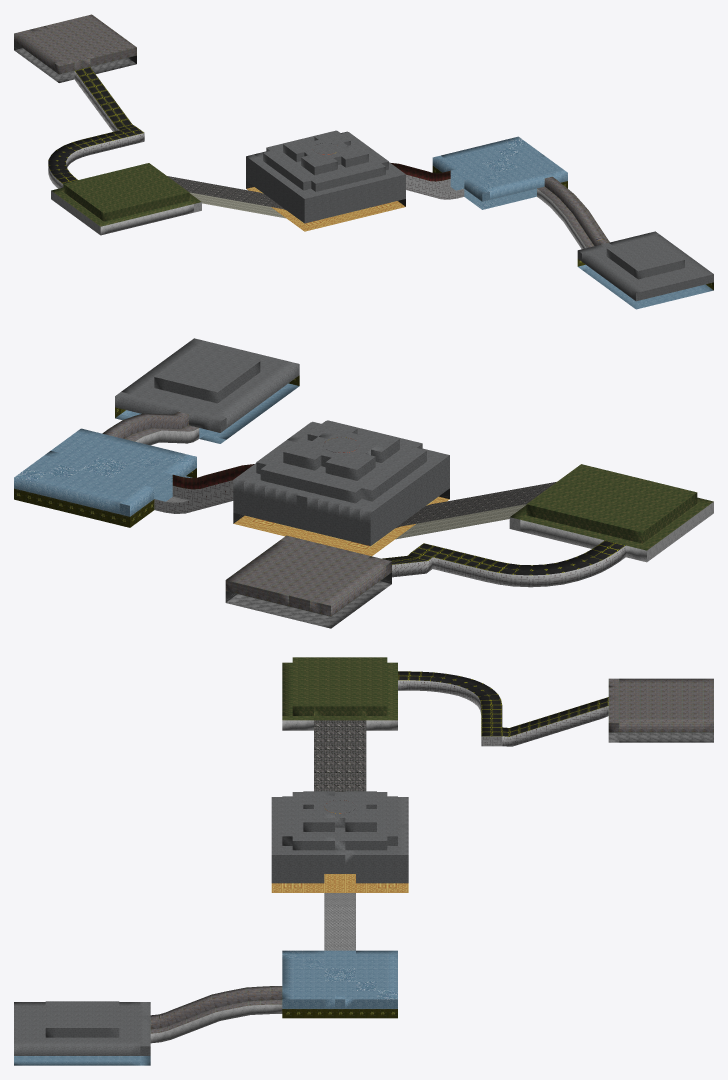
File: complex.obj
3 renders of one model, top to bottom at view 1: azimuth 30°, elevation 25°; view 2: azimuth 150°, elevation 25°; view 3: azimuth 270°, elevation 25°, orthographic. The views are drawn at different scales.
Parts seen in each view (by area): view 1: main, building4, building2, |0|building1, building3, tunnel3, tunnel4, building2_wall, tunnel2, main_floor, building4_floor, building3_floor (+6 smaller); view 2: main, building4, building2, |0|building1, building3, tunnel3_wall2, tunnel3, tunnel2, building2_wall, main_floor, building3_floor, building1_wall (+6 smaller); view 3: main, building4, building2, |0|building1, building3, tunnel2, tunnel3, tunnel4, tunnel3_wall1, tunnel1_floor, main_floor, tunnel4_wall (+4 smaller).
Boxes of the visible parts, left/top/right/bottom form: main: left=246, top=130, right=405, bottom=223; building4: left=577, top=231, right=713, bottom=301; building2: left=51, top=163, right=201, bottom=226; |0|building1: left=432, top=136, right=567, bottom=201; building3: left=14, top=14, right=136, bottom=74; tunnel3: left=48, top=67, right=144, bottom=183; tunnel4: left=537, top=176, right=609, bottom=247; building2_wall: left=51, top=191, right=201, bottom=235; tunnel2: left=167, top=176, right=285, bottom=209; main_floor: left=246, top=187, right=405, bottom=231; building4_floor: left=578, top=264, right=713, bottom=309; building3_floor: left=14, top=48, right=136, bottom=82; main: left=233, top=420, right=449, bottom=546; building4: left=115, top=338, right=299, bottom=432; building2: left=510, top=464, right=713, bottom=550; |0|building1: left=14, top=428, right=196, bottom=516; building3: left=225, top=535, right=391, bottom=616; tunnel3_wall2: left=392, top=545, right=625, bottom=587; tunnel3: left=382, top=540, right=625, bottom=575; tunnel2: left=395, top=482, right=556, bottom=528; building2_wall: left=509, top=502, right=713, bottom=562; main_floor: left=234, top=496, right=449, bottom=556; building3_floor: left=226, top=581, right=391, bottom=628; building1_wall: left=14, top=468, right=196, bottom=527; main: left=271, top=791, right=408, bottom=883; building4: left=14, top=1001, right=150, bottom=1055; building2: left=282, top=657, right=397, bottom=720; |0|building1: left=282, top=950, right=397, bottom=1008; building3: left=608, top=678, right=713, bottom=732; tunnel2: left=314, top=720, right=366, bottom=791; tunnel3: left=398, top=671, right=608, bottom=736; tunnel4: left=150, top=986, right=282, bottom=1033; tunnel3_wall1: left=398, top=680, right=608, bottom=746; tunnel1_floor: left=324, top=893, right=355, bottom=950; main_floor: left=271, top=874, right=408, bottom=892; tunnel4_wall: left=150, top=1004, right=282, bottom=1043.
Bounding box in the file's own units: 1279 × 333 × 1331.
Materials: 18 (18 with a texture image).
